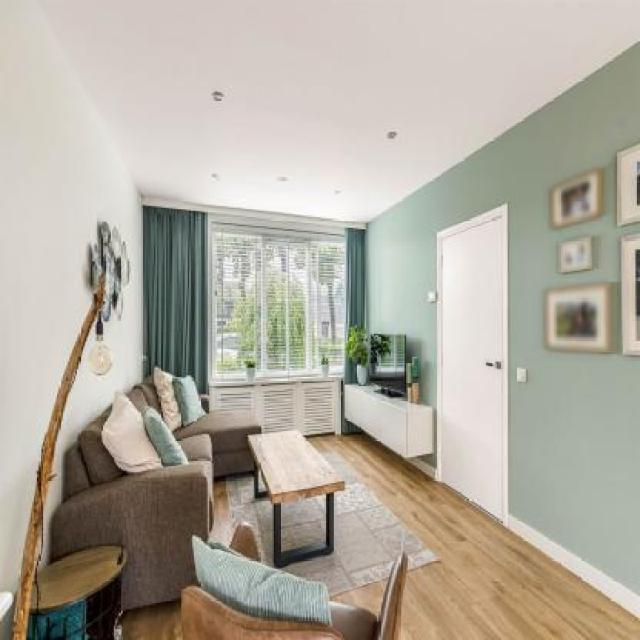floor: (278, 436, 640, 640)
